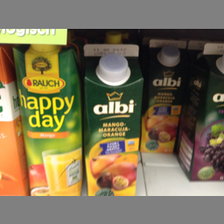juice: (12, 44, 83, 196), (82, 44, 144, 196), (179, 43, 224, 182), (141, 39, 187, 155)
